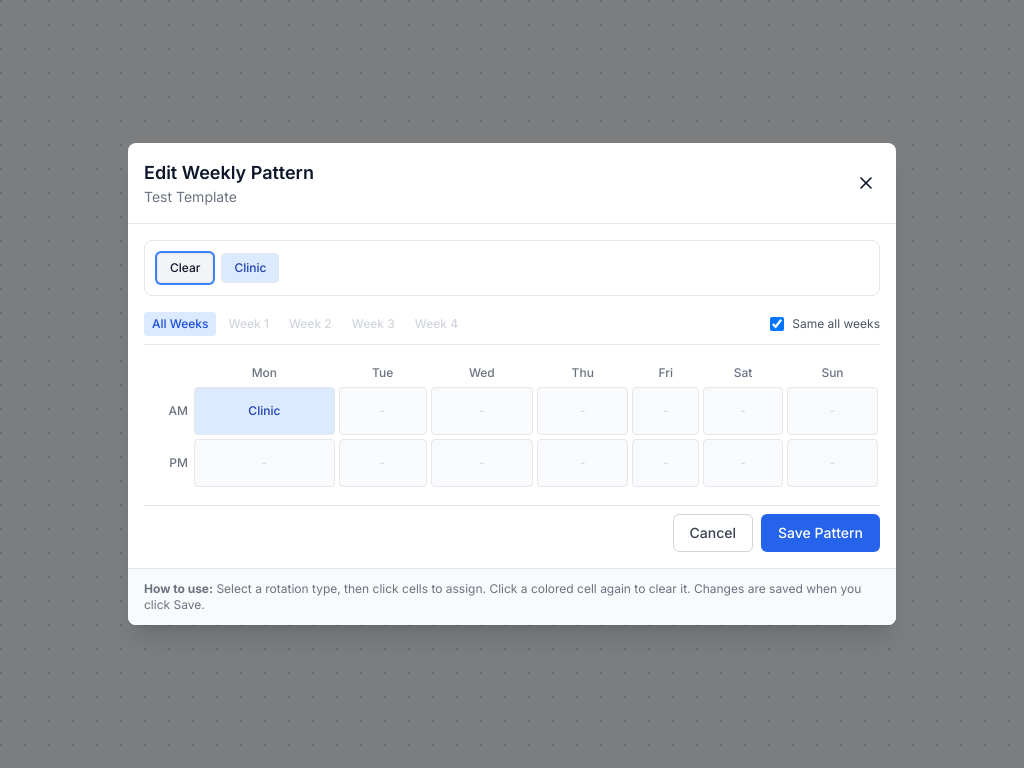
Test: TemplatePatternModal › Save Behavior › should show success message after save
Click the button "Save Pattern". click: point(820, 533)
box: [761, 514, 880, 552]
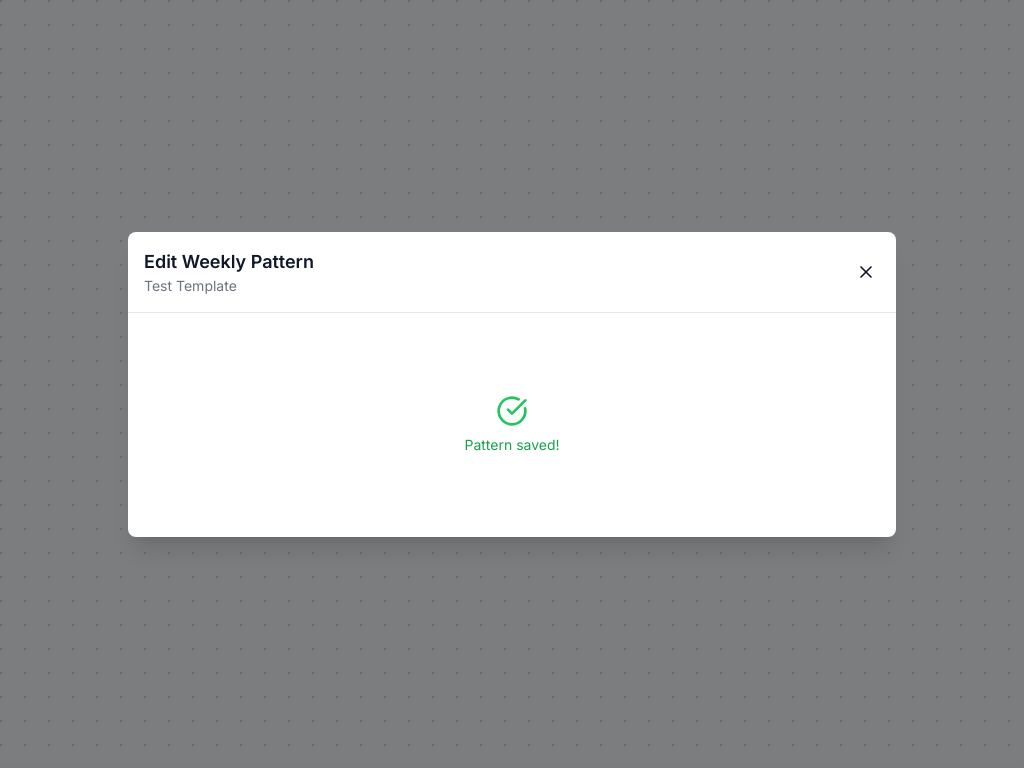
expect the text "Pattern saved!" is shown: met, box [464, 434, 560, 454]
